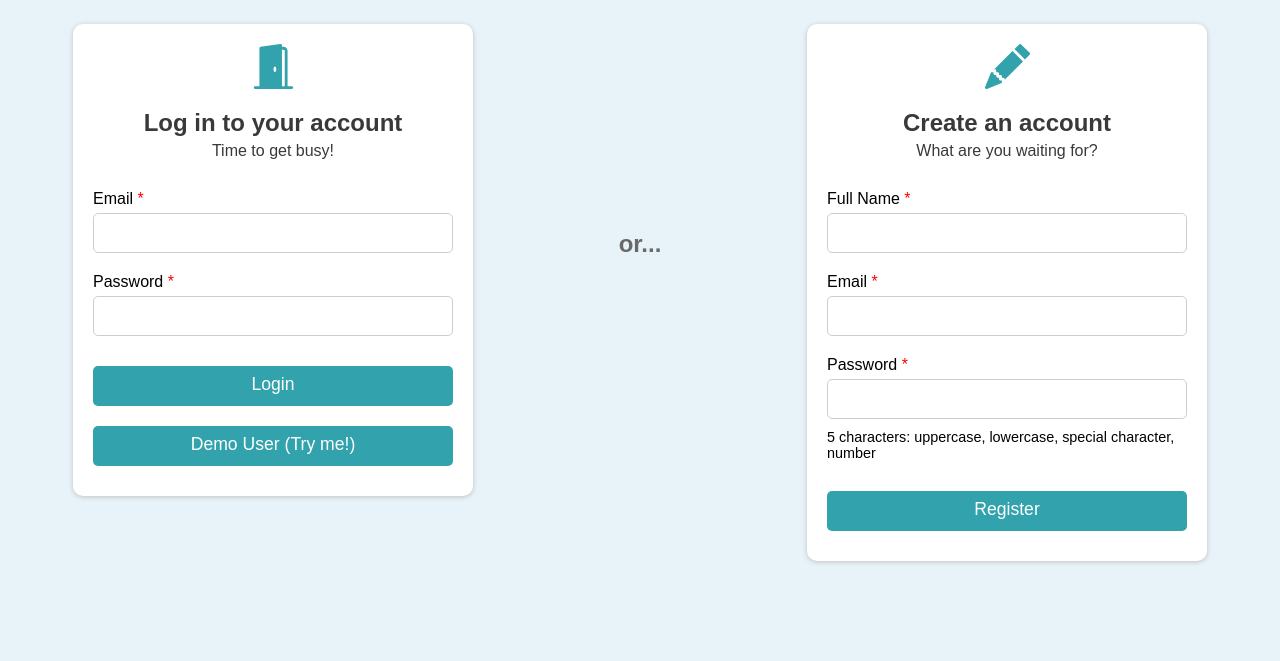
Test case: lists › shows an error when bad auth on list removal
(page scrolled)
Click the button "Demo User (Try me!)": (273, 446) [93,426,453,466]
(page scrolled)
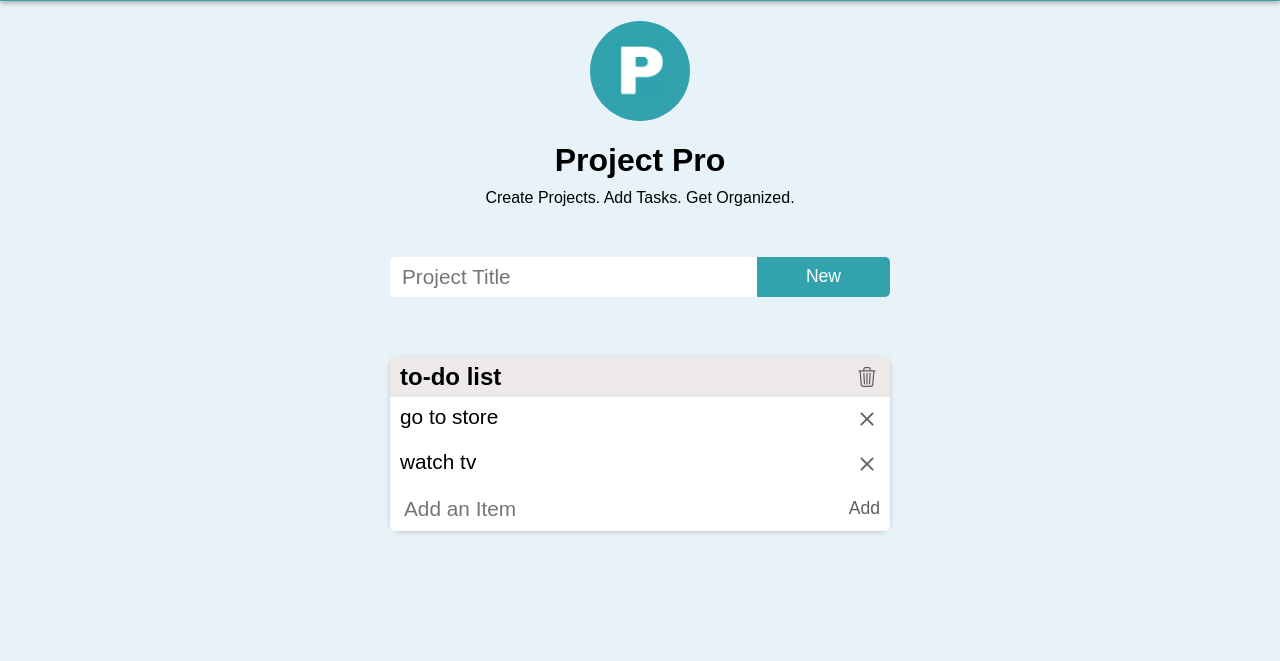
Expected: the heading "to-do list" is shown, [400,363,501,391]
Click the button named "delete list": (867, 377) [849,357,885,397]
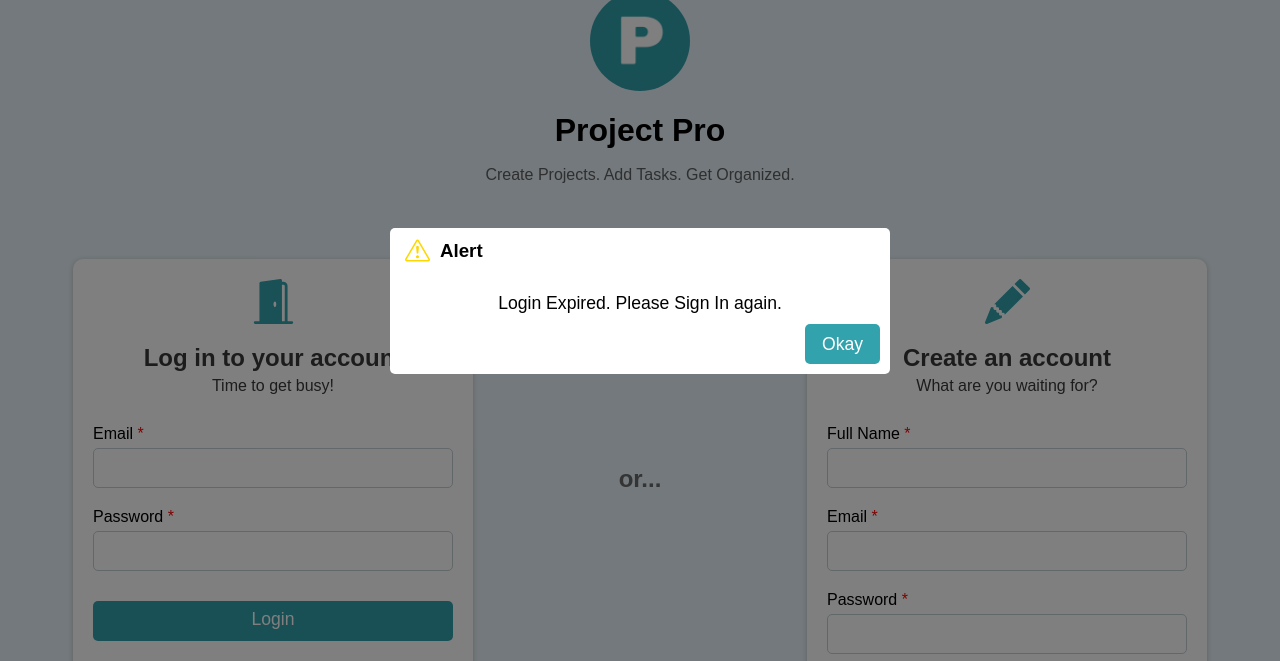
Expected: the text "Login Expired. Please Sign In again." is shown, [498,293,782,314]
